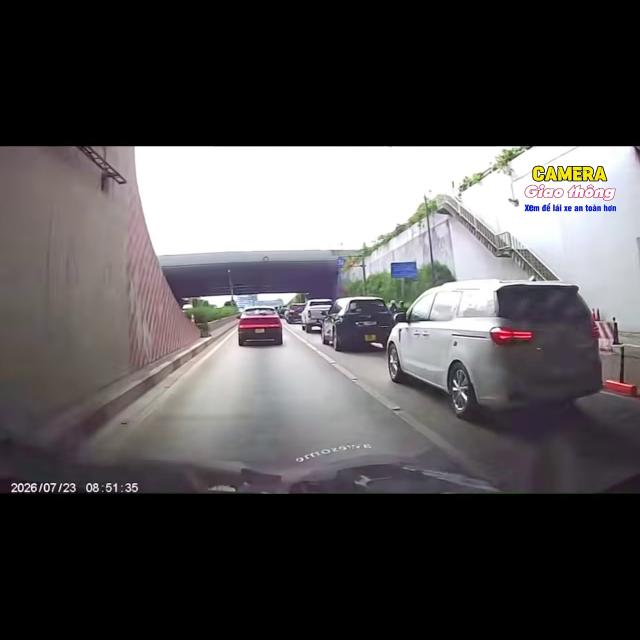car: (387, 280, 602, 419), (321, 296, 393, 351), (238, 306, 282, 345), (301, 299, 332, 332), (285, 303, 305, 323)
